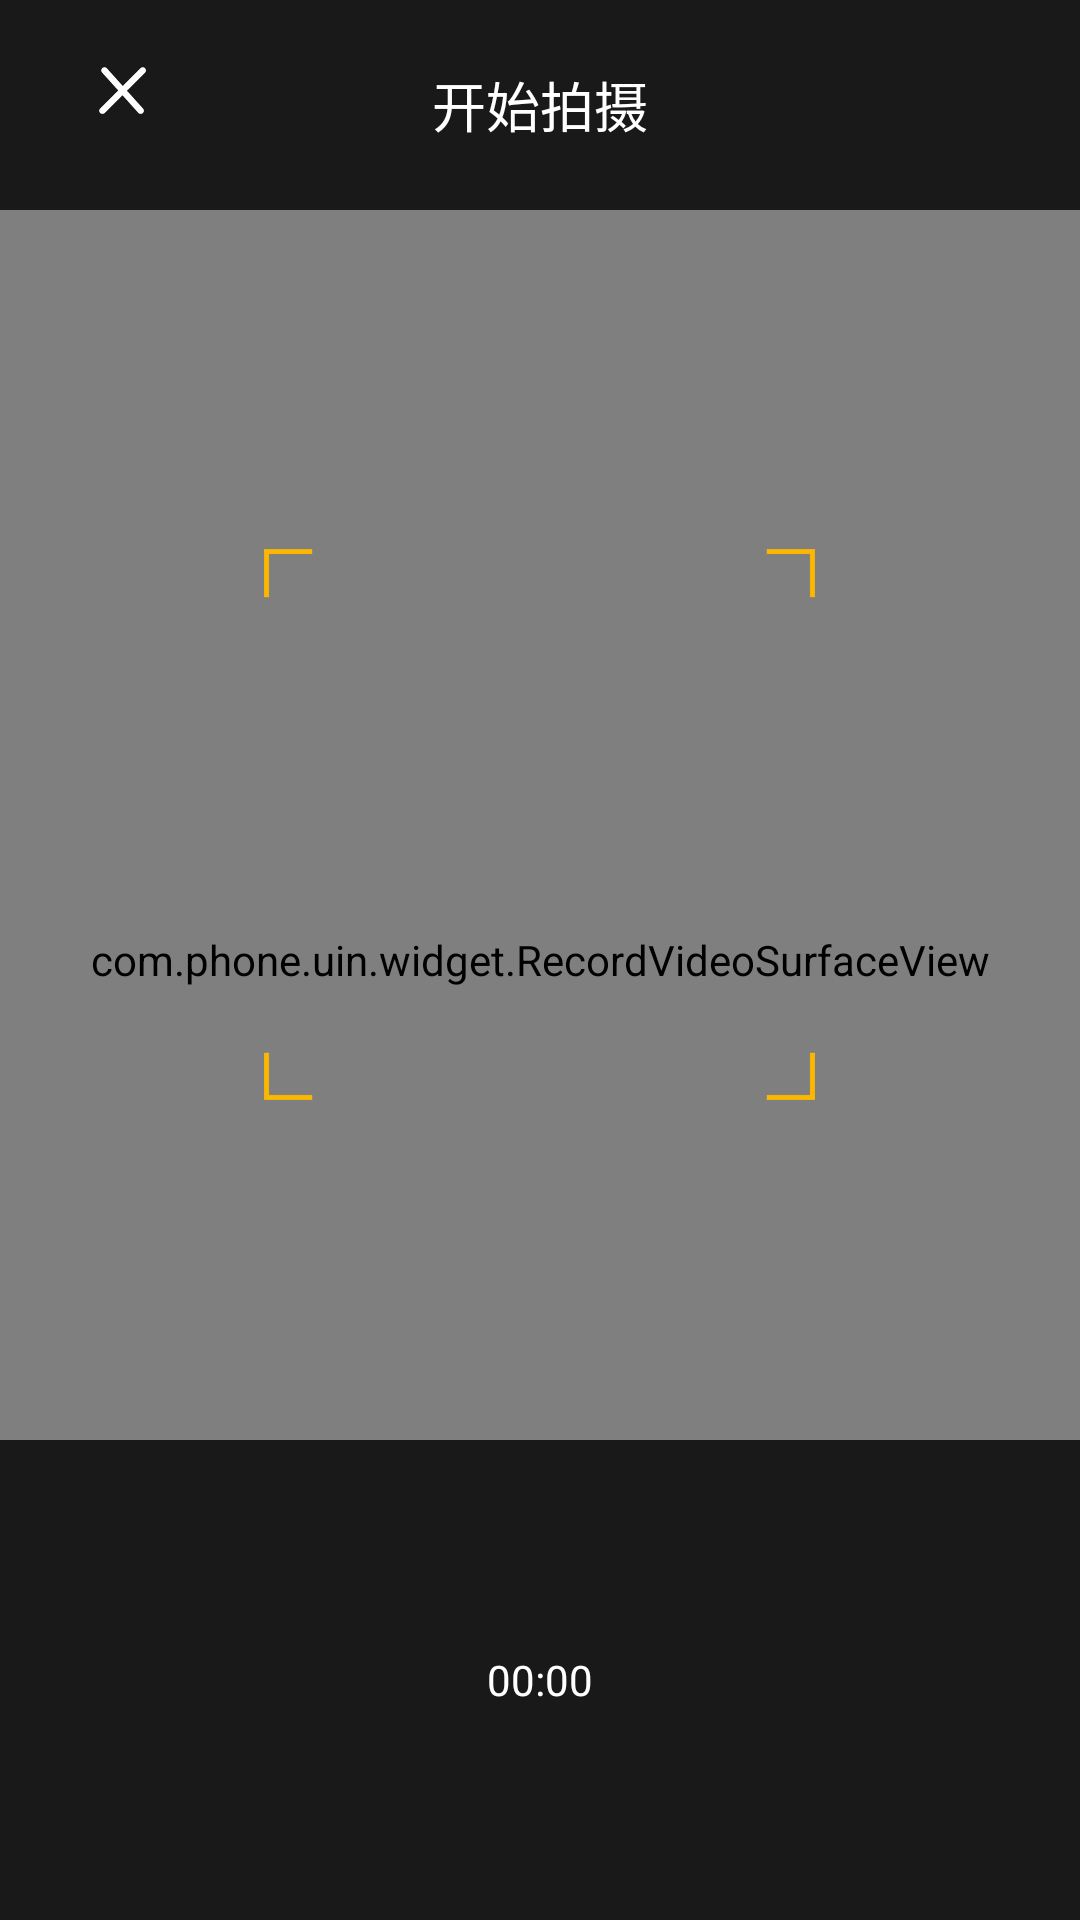

Icon click points for this 1080px×1920px phone screenshot, format (x,y):
photo del: (122,90)
